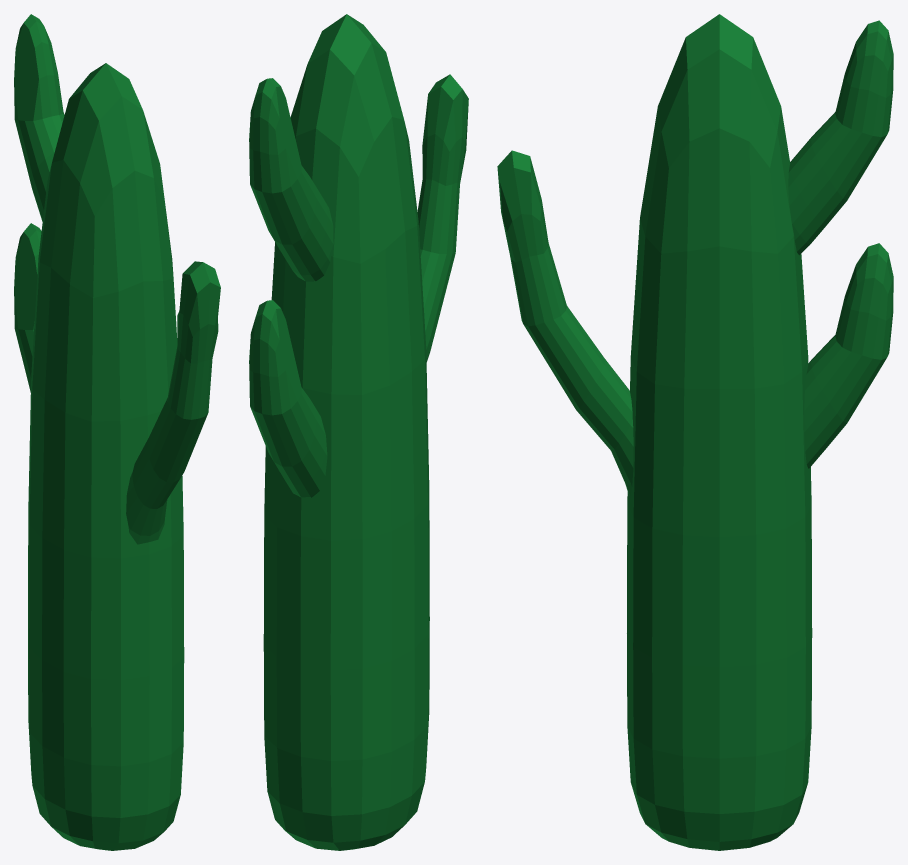
Rendered from cactus2.fbx.
3 renders of one model, left to right at view 1: azimuth 30°, elevation 25°; view 2: azimuth 150°, elevation 25°; view 3: azimuth 270°, elevation 25°, orthographic. The views are drawn at different scales.
Visible parts, largest first — view 1: Cube.001; view 2: Cube.001; view 3: Cube.001.
Boxes of the visible parts, x1=… form: Cube.001: x1=14, y1=14, x2=220, y2=850; Cube.001: x1=249, y1=14, x2=468, y2=850; Cube.001: x1=497, y1=14, x2=893, y2=850.
Size of the model in its own units: 41.32 by 239 by 104.
